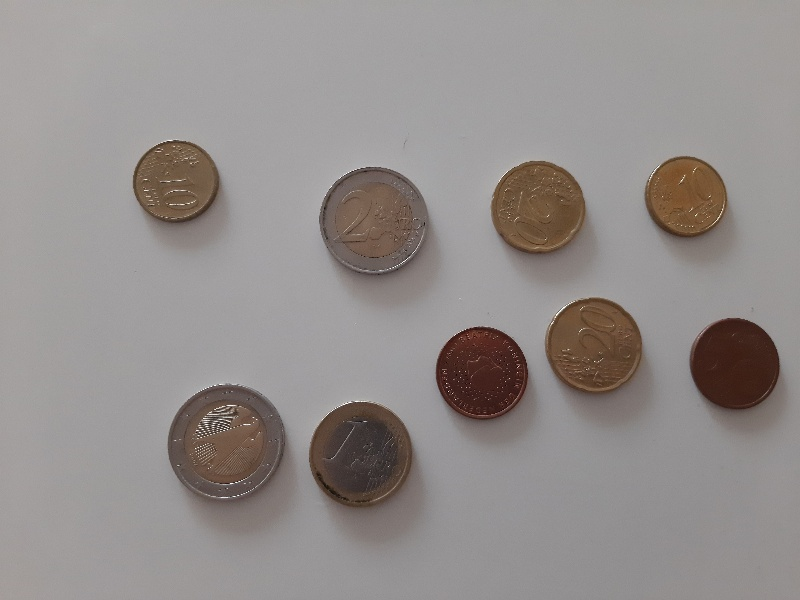1 euro: (304, 398, 415, 513)
10 cent: (129, 137, 222, 226), (643, 153, 730, 239)
2 euro: (162, 381, 290, 505), (316, 164, 432, 280)
20 cent: (487, 157, 589, 259), (543, 296, 644, 398)
5 cent: (434, 325, 530, 425), (687, 316, 781, 416)
